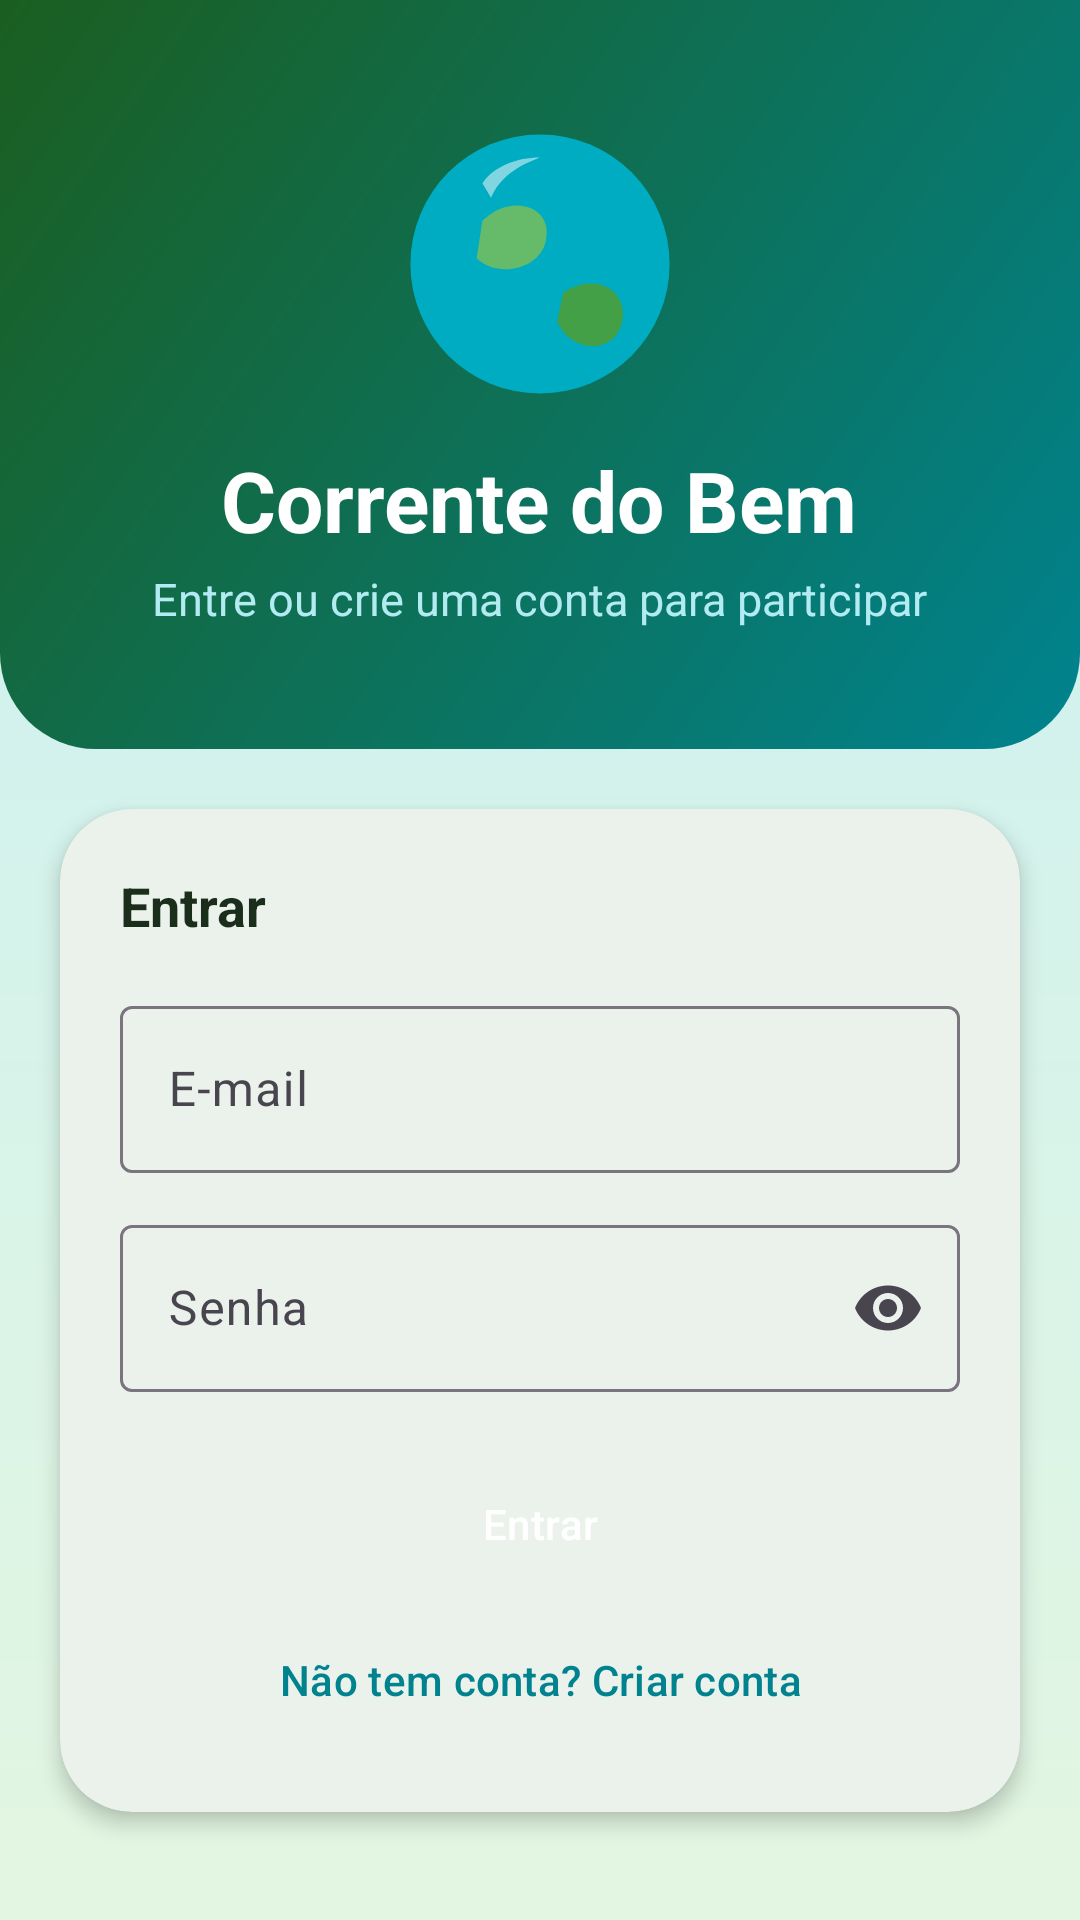

Screen size 1080w x 1920h. Icon name, then its center in pixels as (x=x, y=y):
Ilustração do planeta Terra com oceanos e florestas: (x=540, y=264)
